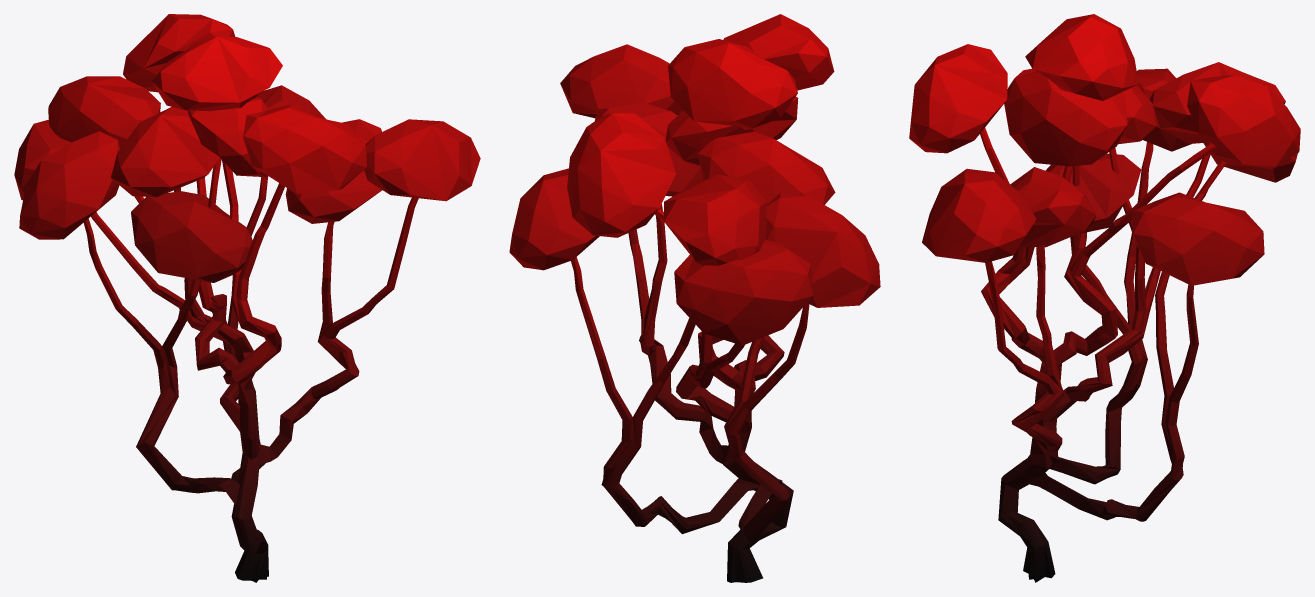
File: TreeHiatus08.fbx
3 views of the same model, side by side, from view 1: azimuth 30°, elevation 25°; view 2: azimuth 150°, elevation 25°; view 3: azimuth 270°, elevation 25° (orthographic). The views are drawn at different scales.
Parts seen in each view (by area): view 1: TreeHiatus08_LOD0; view 2: TreeHiatus08_LOD0; view 3: TreeHiatus08_LOD0.
Part boxes in pixels (x1=…): TreeHiatus08_LOD0: x1=14, y1=14, x2=480, y2=582; TreeHiatus08_LOD0: x1=509, y1=14, x2=880, y2=582; TreeHiatus08_LOD0: x1=909, y1=14, x2=1300, y2=582.
Size of what is drawn, in the model's own units: 1809 by 2472 by 1588.
